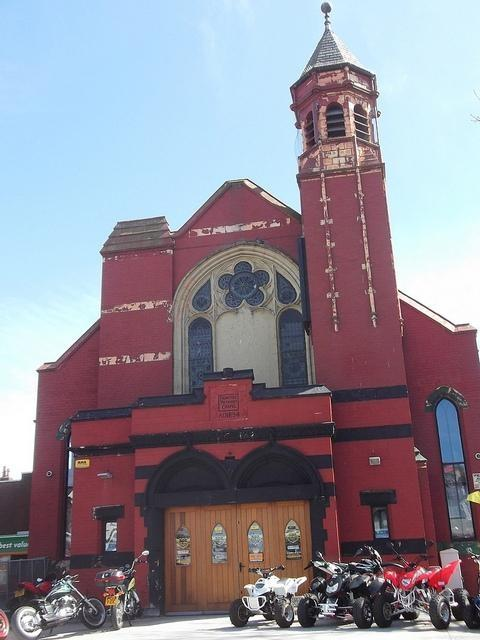motorcycle: (366, 540, 462, 632), (297, 546, 383, 630), (9, 574, 107, 640), (229, 562, 309, 627), (100, 549, 152, 640), (4, 570, 68, 613), (452, 546, 480, 628)
